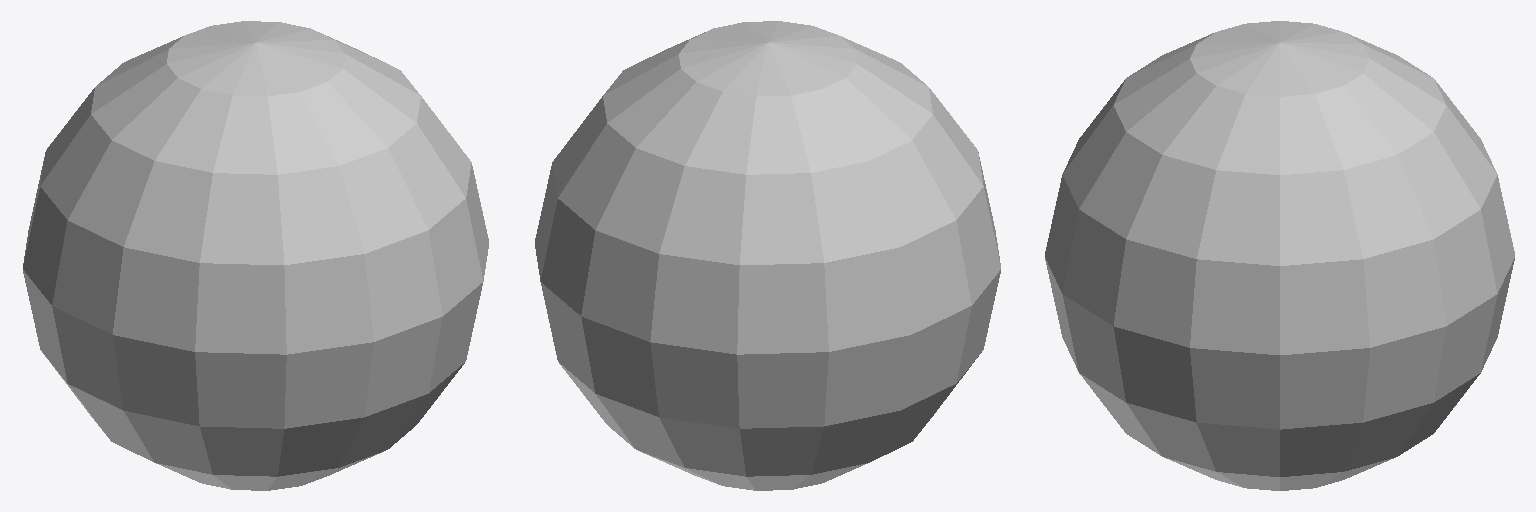
Rendered from bola5.obj.
The picture shows the model from 3 angles: view 1: azimuth 30°, elevation 25°; view 2: azimuth 150°, elevation 25°; view 3: azimuth 270°, elevation 25°; orthographic projection.
Visible parts, largest first — view 1: POOL_TABLE.029; view 2: POOL_TABLE.029; view 3: POOL_TABLE.029.
Boxes of the visible parts, <box> form: POOL_TABLE.029: <box>23,21,488,490</box>; POOL_TABLE.029: <box>535,21,1000,490</box>; POOL_TABLE.029: <box>1045,21,1514,490</box>.
Bounding box in the file's own units: 0.0585 × 0.0585 × 0.0585.